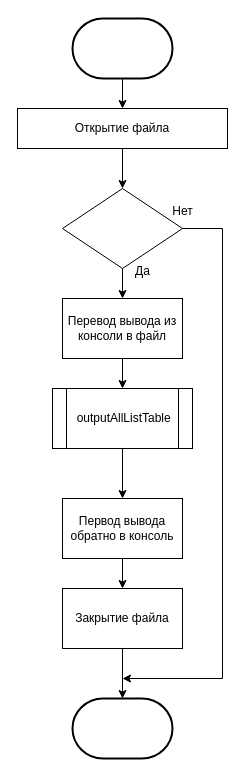
Image size: 248x776. Some labels were removed from this diagram. Here are the shapes that lost their labels. From the top down, the box of each, then its label:
(71, 17, 173, 79): Начало
(62, 188, 182, 268): Открыт ли файл
(71, 697, 173, 759): Конец
